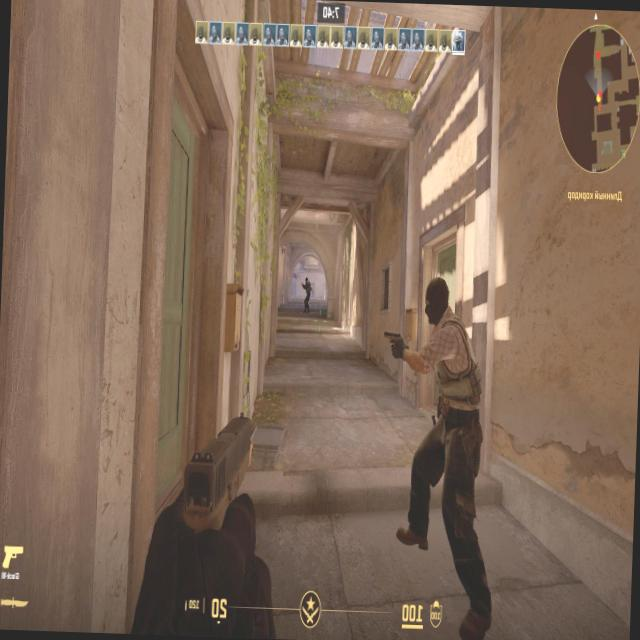CT: (304, 276, 310, 310)
CT_heat: (306, 277, 308, 285)
T: (419, 282, 470, 552)
T_heat: (434, 288, 445, 316)
